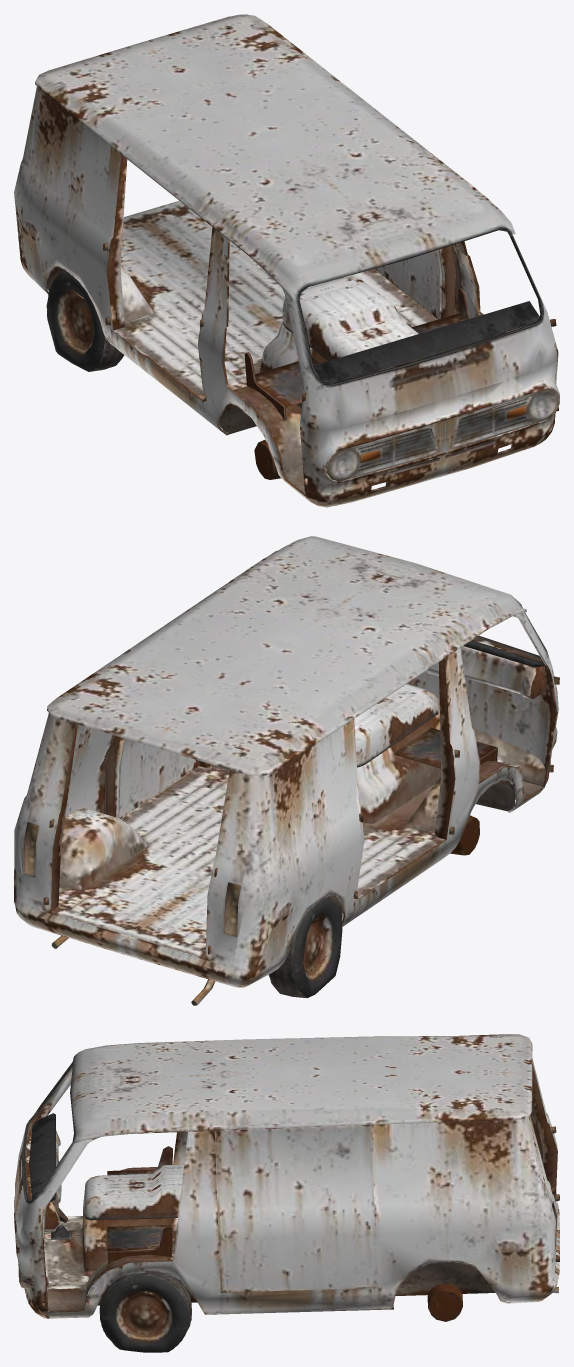
File: van_e_grey.glb
3 views of the same model, one above another, from view 1: azimuth 30°, elevation 25°; view 2: azimuth 150°, elevation 25°; view 3: azimuth 270°, elevation 25° (orthographic). The views are drawn at different scales.
Visible parts, largest first — view 1: van_e_LOD0; view 2: van_e_LOD0; view 3: van_e_LOD0.
Part boxes in pixels (bbox=[...]): van_e_LOD0: bbox=[14, 14, 559, 507]; van_e_LOD0: bbox=[14, 536, 559, 1005]; van_e_LOD0: bbox=[14, 1034, 559, 1352].
Size of the model in its own units: 2.27 by 2.21 by 4.76.
Materials: 1 (1 with a texture image).
